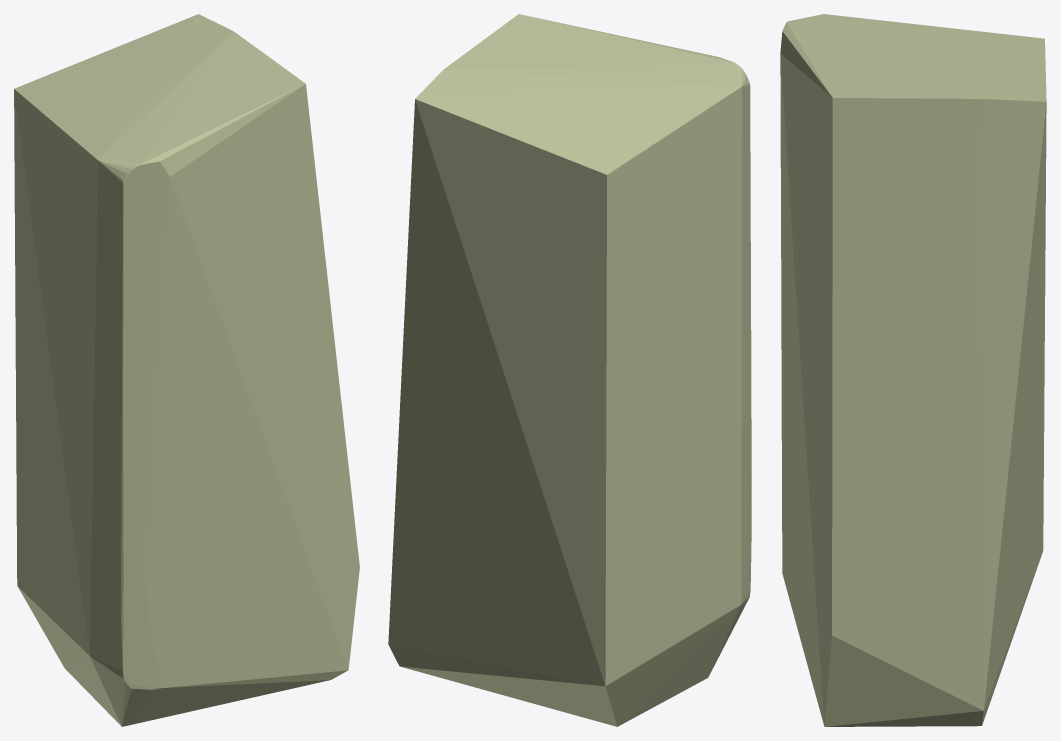
The model's file is sofa_visitor_a01.glb.
3 views of the same model, side by side, from view 1: azimuth 30°, elevation 25°; view 2: azimuth 150°, elevation 25°; view 3: azimuth 270°, elevation 25° (orthographic). The views are drawn at different scales.
Parts seen in each view (by area): view 1: geometry_0; view 2: geometry_0; view 3: geometry_0.
Boxes of the visible parts, bbox=[...] form: geometry_0: bbox=[14, 14, 359, 726]; geometry_0: bbox=[388, 14, 751, 726]; geometry_0: bbox=[780, 14, 1046, 726].
Size of the model in its own units: 0.2243 by 0.4759 by 0.1865.
